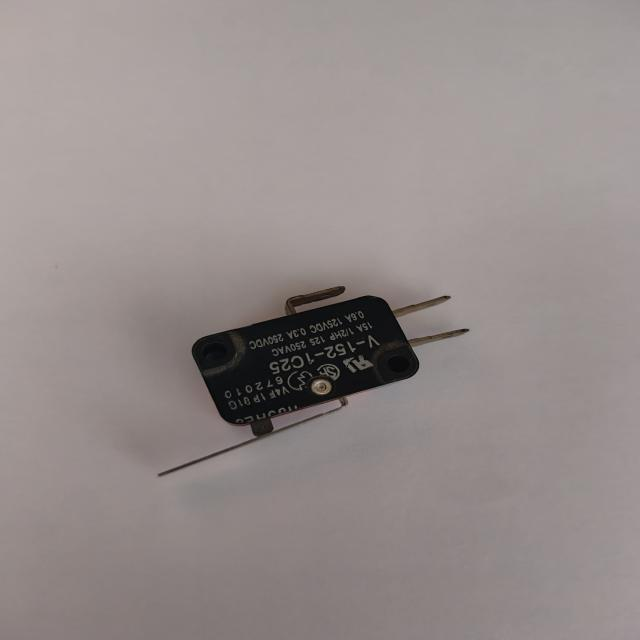switch: (141, 278, 473, 484)
